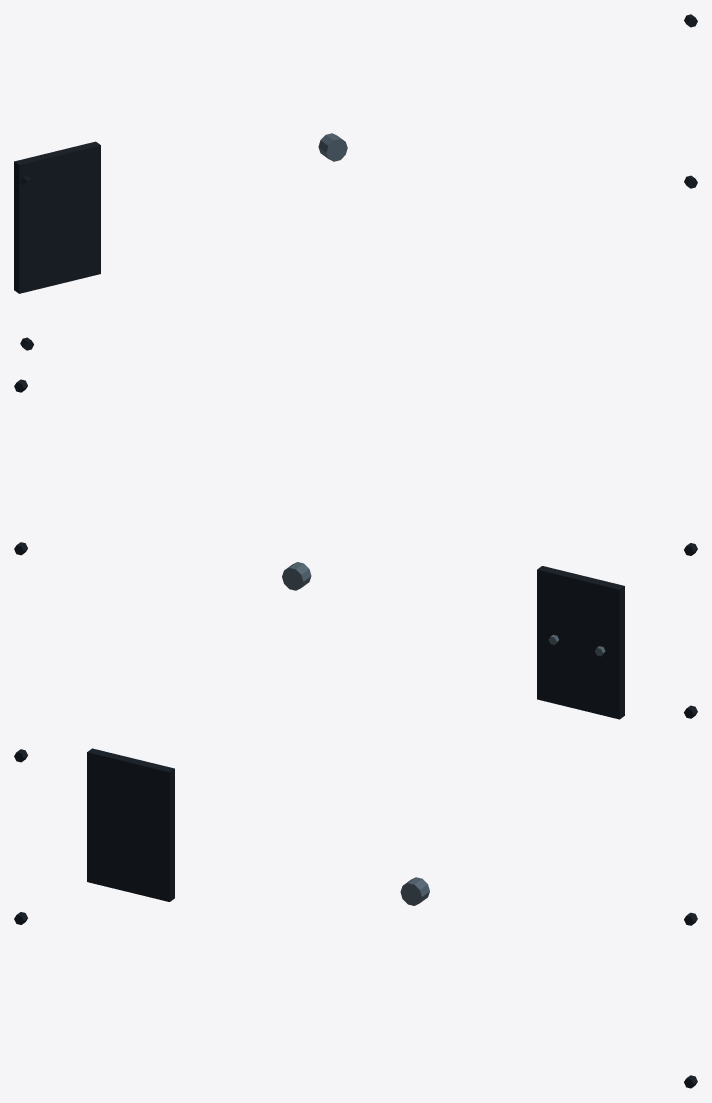
Rendered from P16-05_detail.obj.
3 renders of one model, top to bottom at view 1: azimuth 30°, elevation 25°; view 2: azimuth 150°, elevation 25°; view 3: azimuth 330°, elevation 25°, orthographic.
Visible parts, largest first — view 1: P16-05_STATIC_DarkPanel_DETAIL_RearServiceCover, P16-05_STATIC_Steel_DETAIL_CablePassThrough; view 2: P16-05_STATIC_DarkPanel_DETAIL_RearServiceCover, P16-05_STATIC_Steel_DETAIL_CablePassThrough; view 3: P16-05_STATIC_DarkPanel_DETAIL_RearServiceCover, P16-05_STATIC_Steel_DETAIL_CablePassThrough.
Part boxes in pixels (bbox=[...]): P16-05_STATIC_DarkPanel_DETAIL_RearServiceCover: bbox=[14, 141, 100, 293]; P16-05_STATIC_Steel_DETAIL_CablePassThrough: bbox=[318, 133, 347, 161]; P16-05_STATIC_DarkPanel_DETAIL_RearServiceCover: bbox=[537, 566, 624, 719]; P16-05_STATIC_Steel_DETAIL_CablePassThrough: bbox=[282, 562, 311, 590]; P16-05_STATIC_DarkPanel_DETAIL_RearServiceCover: bbox=[87, 748, 174, 901]; P16-05_STATIC_Steel_DETAIL_CablePassThrough: bbox=[400, 877, 429, 905].
Size of the model in its own units: 0.822 by 0.1984 by 0.1025.
